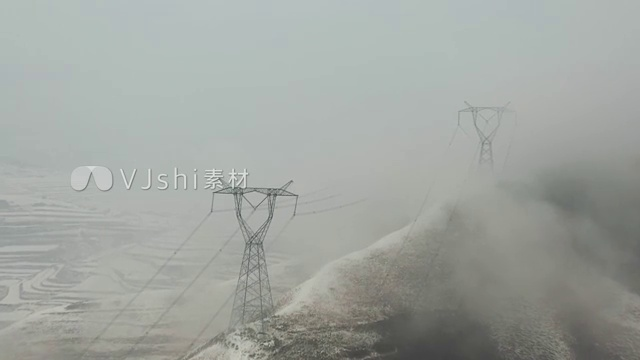tower_body: (202, 178, 315, 351), (449, 95, 525, 172)
tower_foot: (220, 302, 283, 349)
tower_head: (206, 180, 306, 245), (454, 100, 520, 139)
